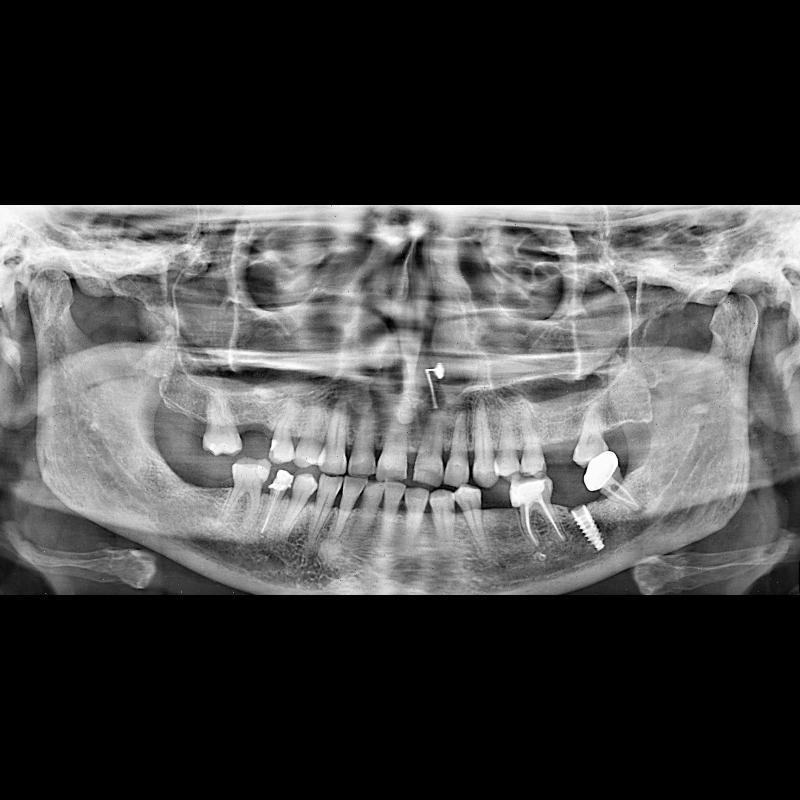NORIS: (570, 504, 606, 556)
